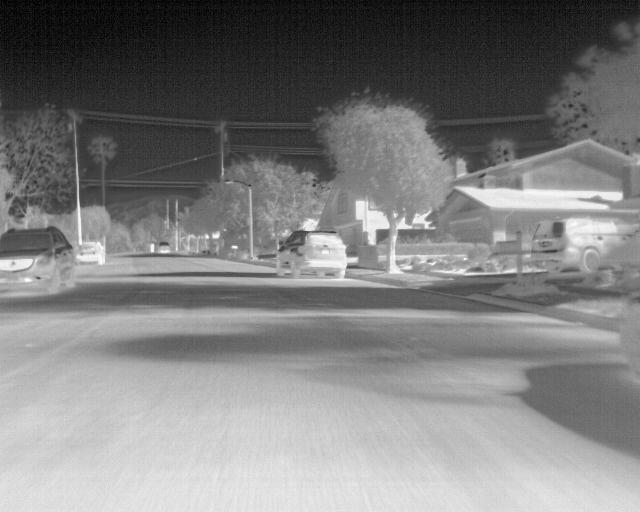car: (522, 205, 624, 277), (2, 221, 80, 304), (272, 223, 354, 285), (61, 230, 115, 267), (144, 233, 173, 261), (132, 236, 163, 256)
